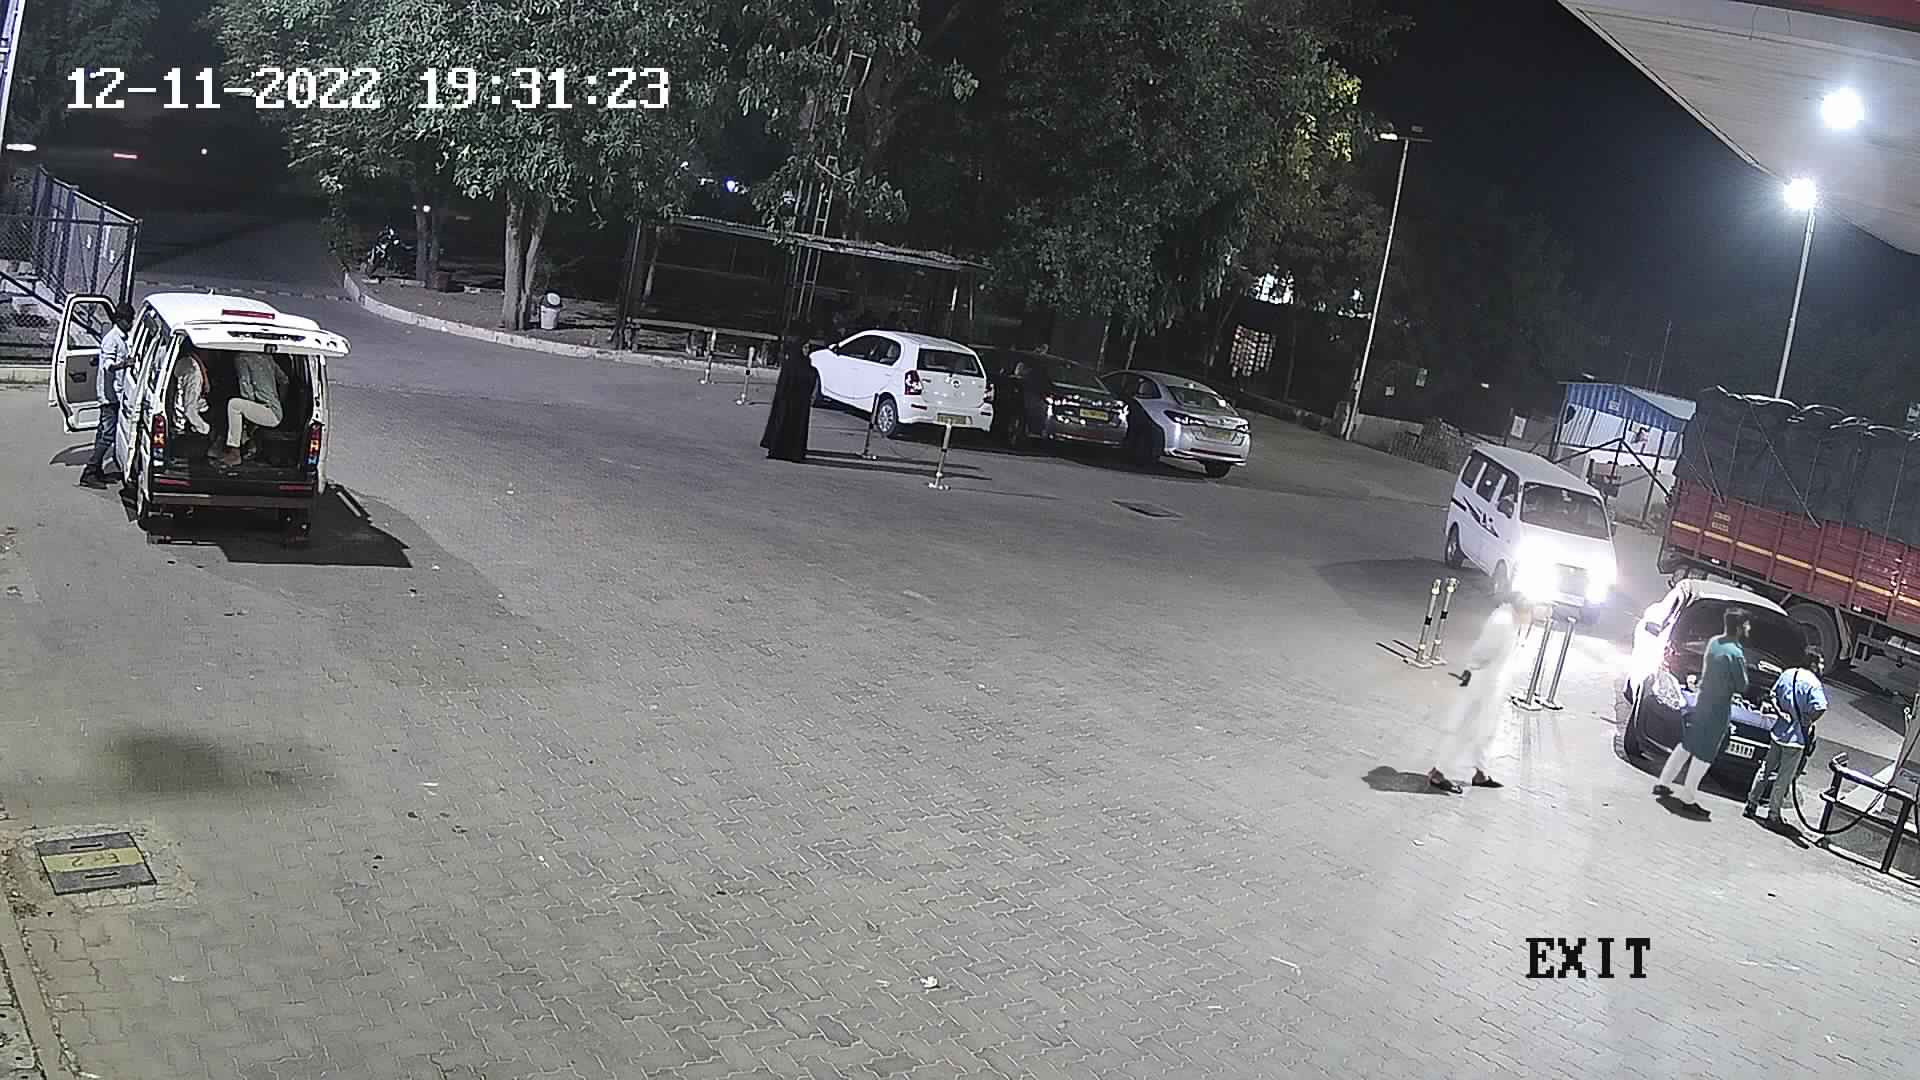Bike: (345, 218, 419, 295)
Car: (36, 276, 360, 547), (1606, 551, 1838, 804), (1427, 426, 1630, 622), (793, 320, 1007, 458), (963, 335, 1135, 469), (1093, 360, 1259, 488)
HMV: (1650, 332, 1920, 753)
Others: (1727, 640, 1832, 845)
